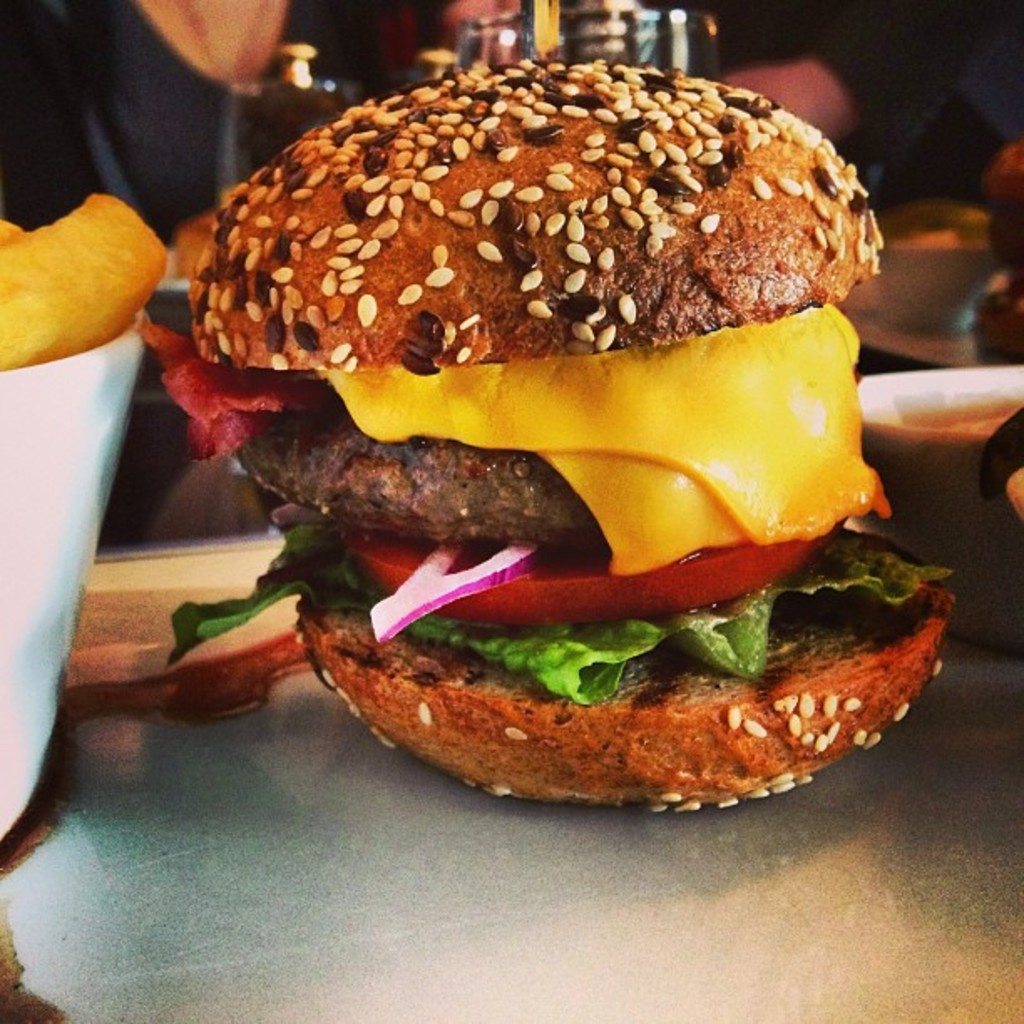Hamburger: (145, 60, 958, 813)
